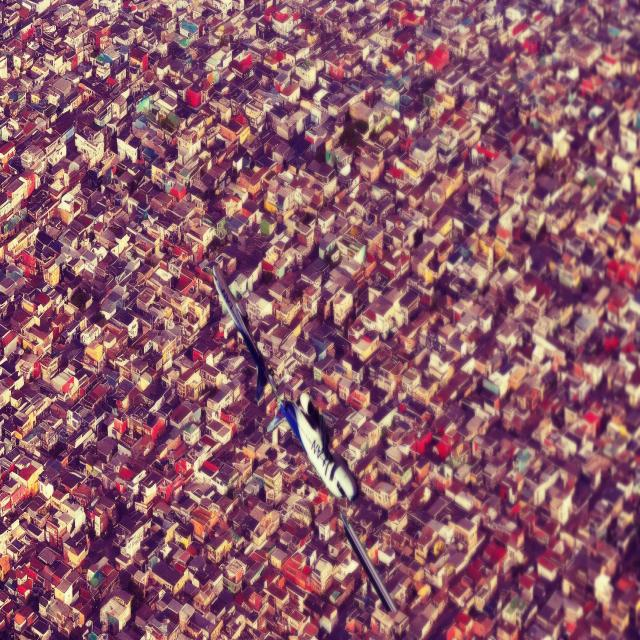airplane: (266, 389, 358, 504), (213, 265, 277, 400)
